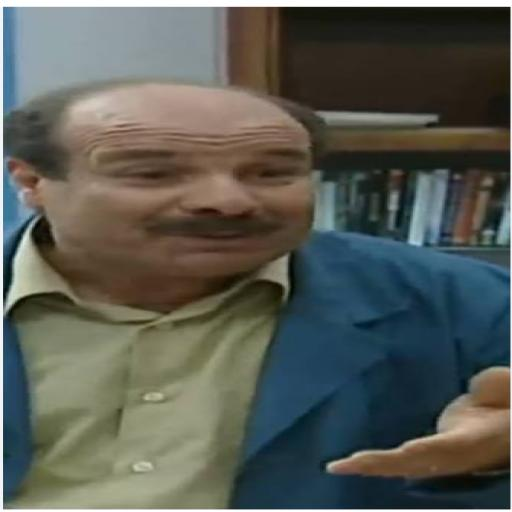beji_matrix: (6, 82, 326, 280)
